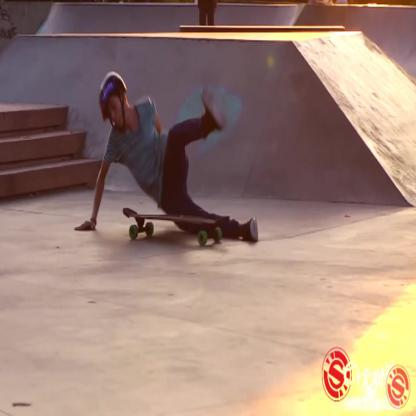Fall_Down: (72, 70, 261, 244)
